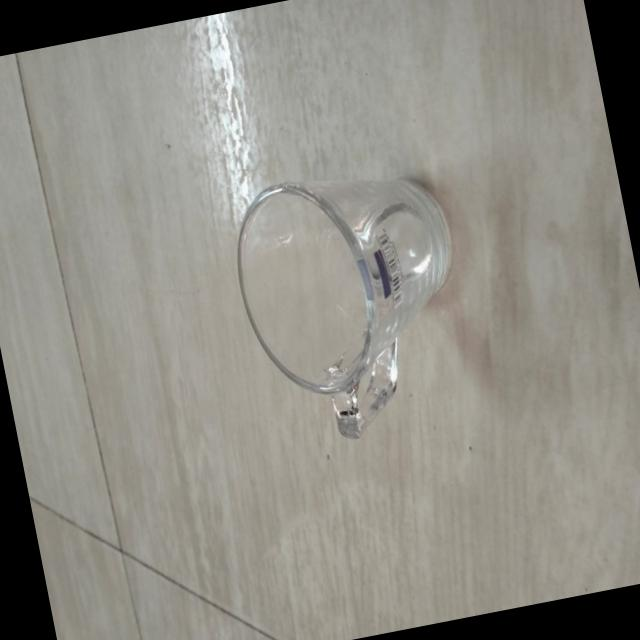glass-VX4N: (218, 140, 483, 456)
